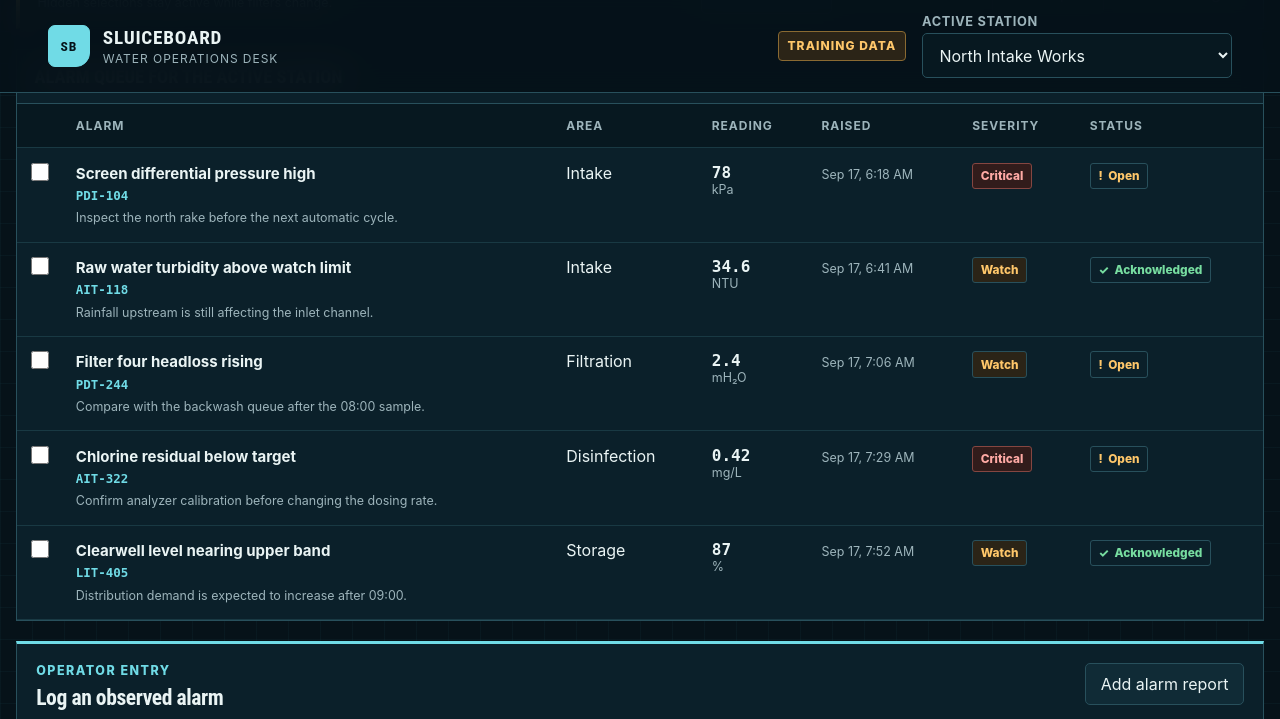
Sluiceboard › acknowledges selected open alarms in one action
(page scrolled)
What coordinates should you click on to do the following:
click the checkbox named "Select Filter four headloss rising (PDT-244)"
I would click on:
 (40, 360)
Its box is [31,352,49,370].
(page scrolled)
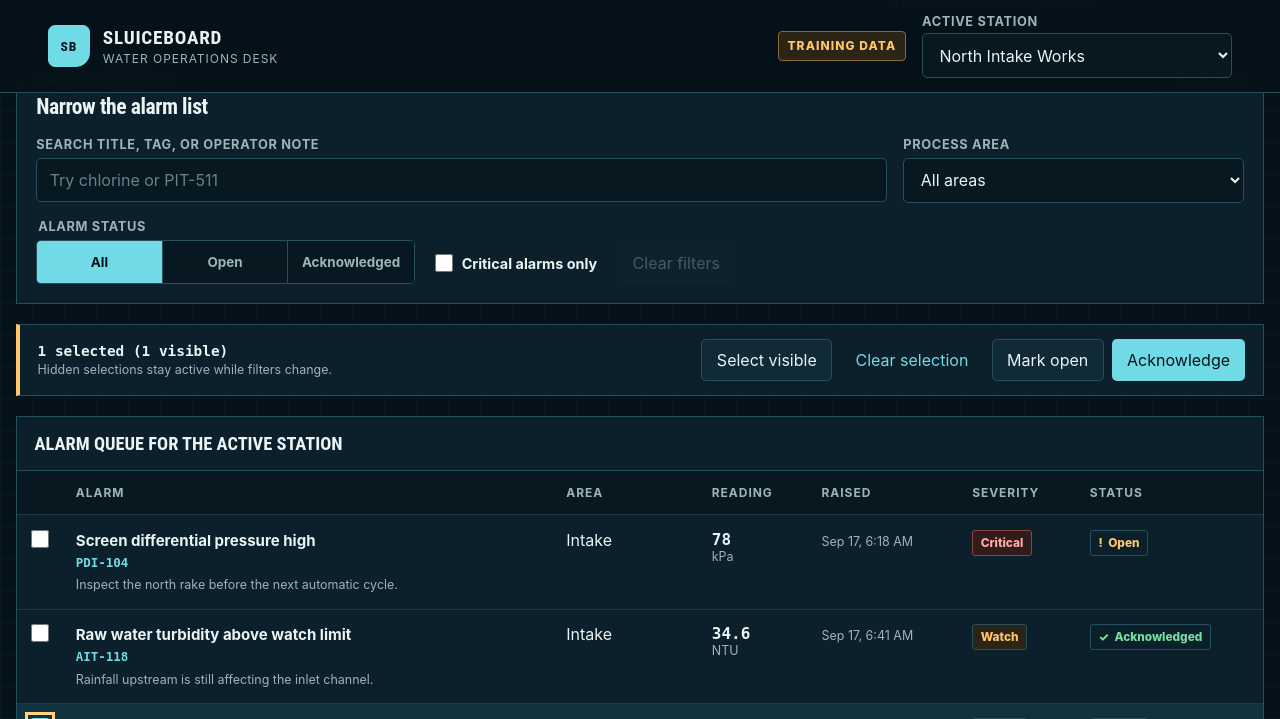
What coordinates should you click on to do the following:
click the button "Acknowledge"
I would click on:
 (1179, 360)
Its box is [1112,339,1245,381].
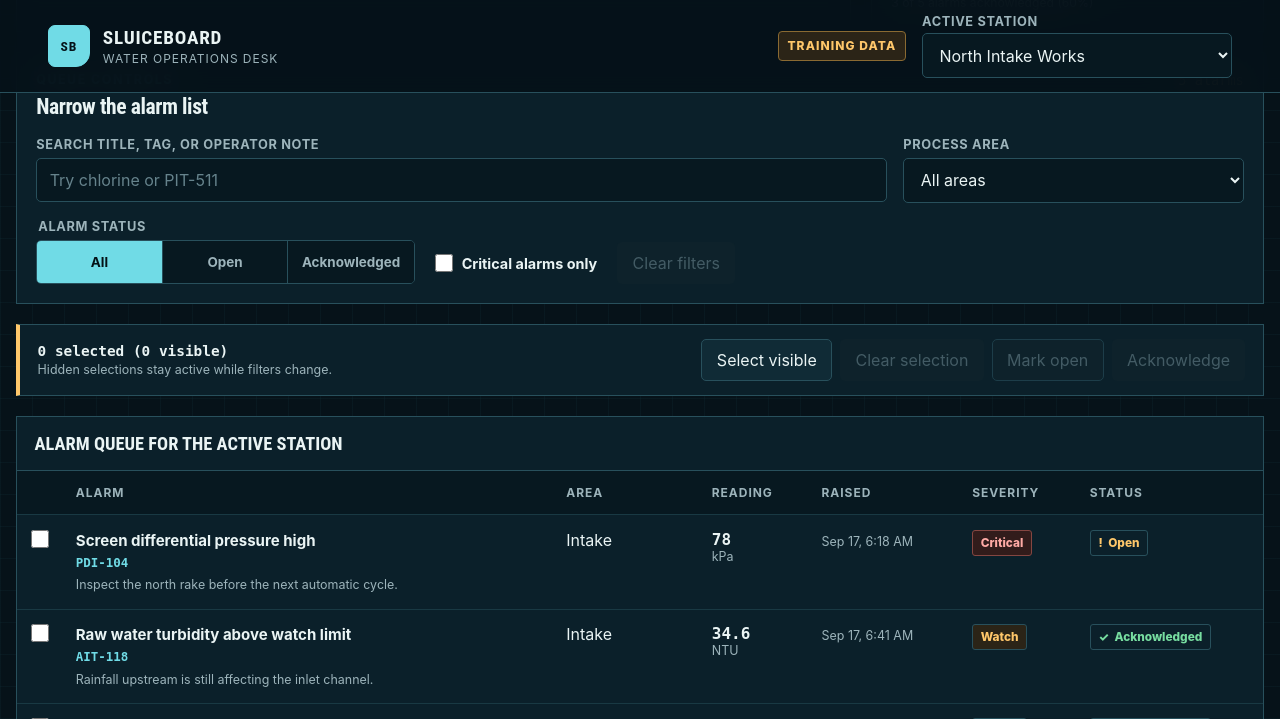
Expected: the text "0 selected (0 visible)" is shown, [38,343,228,359]
